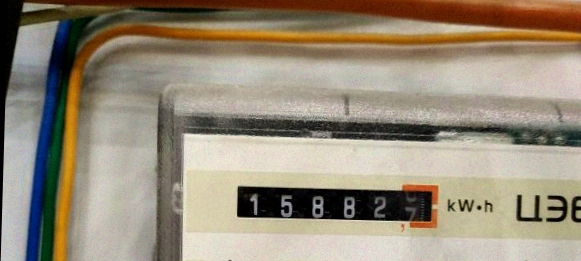1: (247, 190, 260, 217)
2: (371, 194, 388, 219)
5: (278, 192, 293, 218)
7: (402, 204, 418, 221)
8: (309, 193, 326, 218), (341, 194, 357, 219)
screen: (226, 174, 446, 237)
